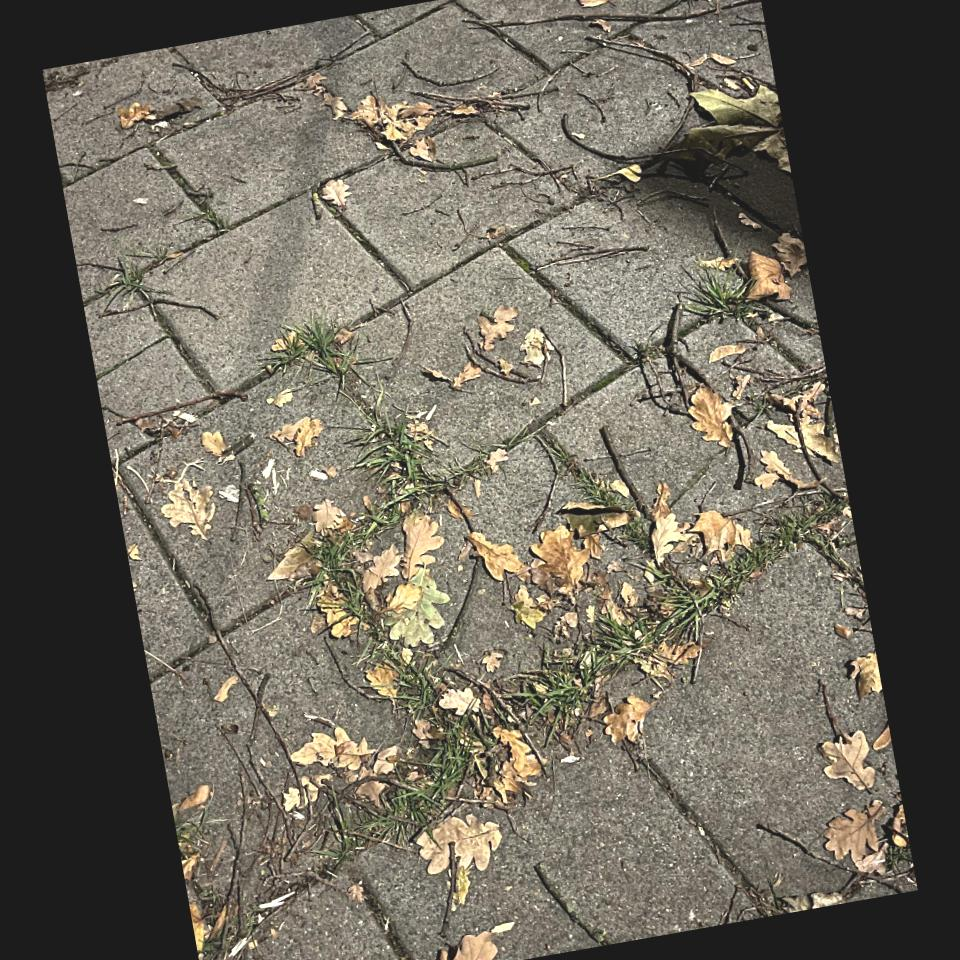weed: (312, 414, 484, 828)
